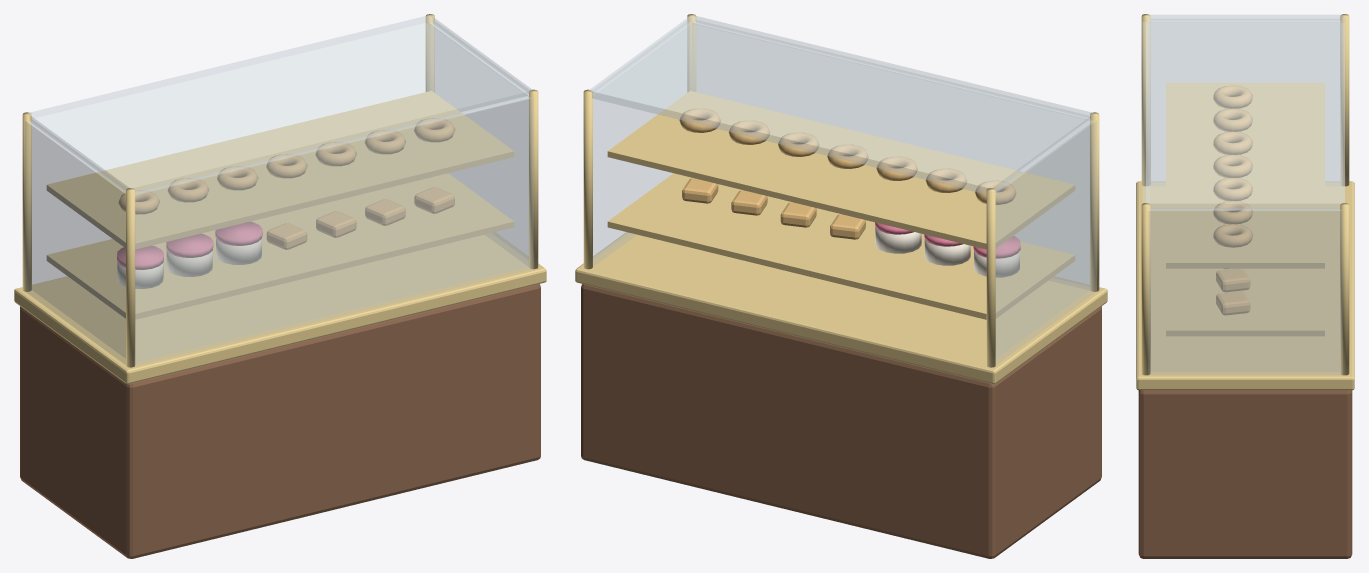
Rendered from pastry_display_case.glb.
The picture shows the model from 3 angles, left to right: view 1: azimuth 30°, elevation 25°; view 2: azimuth 150°, elevation 25°; view 3: azimuth 270°, elevation 25°; orthographic projection. The views are drawn at different scales.
Parts seen in each view (by area): view 1: CabinetBase; view 2: CabinetBase; view 3: CabinetBase.
Part boxes in pixels (box(x1,y1,x2,y2)): CabinetBase: box(14, 14, 546, 558); CabinetBase: box(575, 14, 1107, 558); CabinetBase: box(1136, 14, 1354, 558).
Size of the model in its own units: 1.88 by 1.58 by 0.88.
